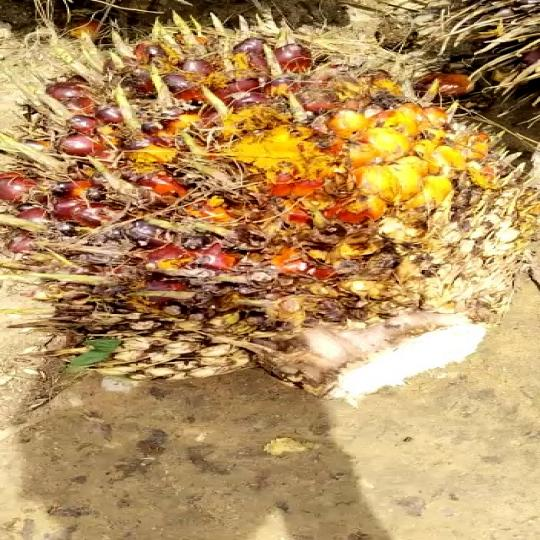masak: (13, 29, 504, 420)
